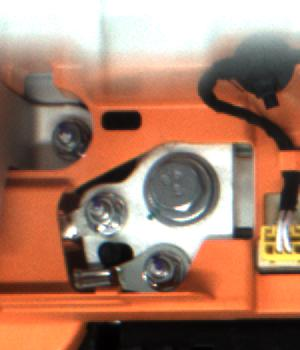nut_b: (141, 151, 223, 223)
screw_s: (142, 250, 180, 290), (82, 189, 119, 229), (49, 121, 81, 156)
